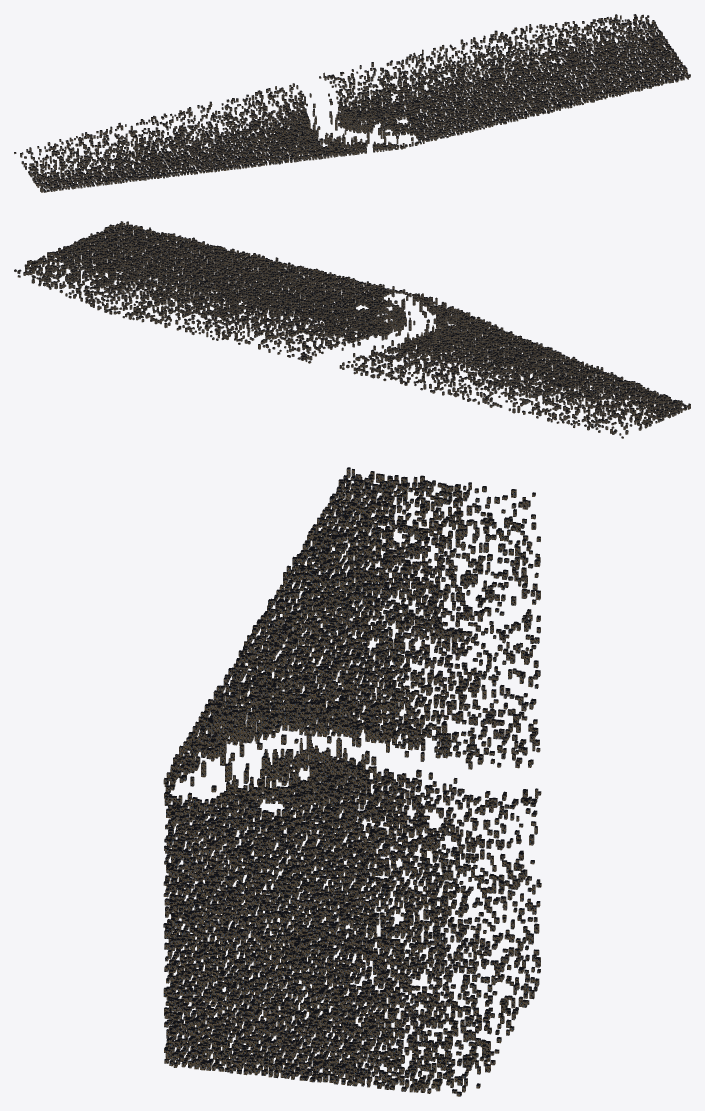
File: earth_city.glb
The picture shows the model from 3 angles, top to bottom: view 1: azimuth 30°, elevation 25°; view 2: azimuth 150°, elevation 25°; view 3: azimuth 270°, elevation 25°; orthographic projection. The views are drawn at different scales.
Visible parts, largest first — view 1: EarthCity; view 2: EarthCity; view 3: EarthCity.
Part boxes in pixels (x1,y1,x2,y2): EarthCity: (14, 14, 690, 192); EarthCity: (14, 221, 690, 438); EarthCity: (163, 467, 541, 1096).
Bounding box in the file's own units: 6021 × 117 × 1551.
1 material, 1 textured.
